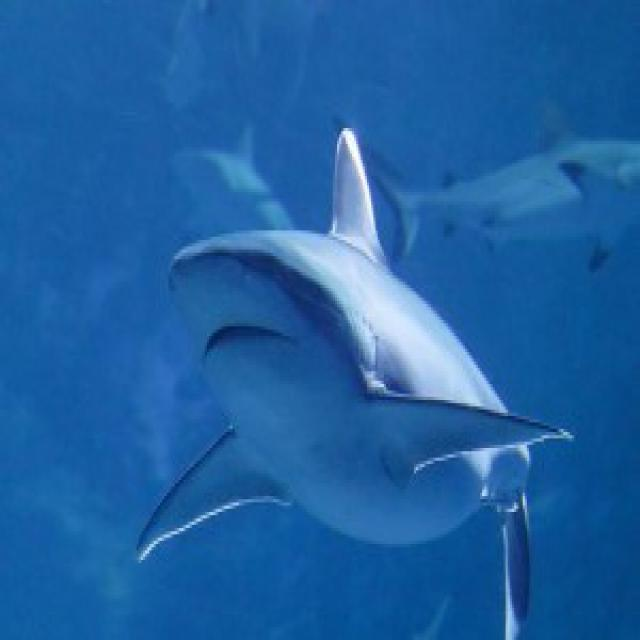Shark: (125, 111, 574, 640), (383, 131, 640, 261), (165, 125, 292, 218)
